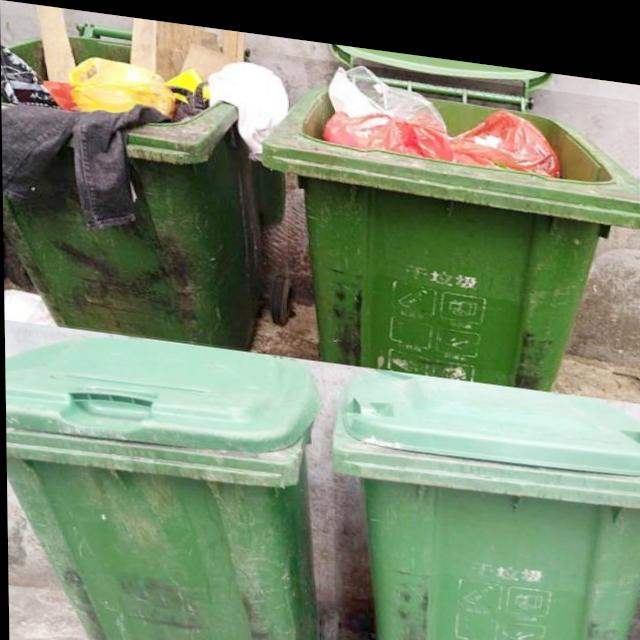garbage_bin: (4, 320, 319, 640), (331, 358, 640, 640)
overflow: (259, 44, 640, 386), (0, 0, 289, 347)
